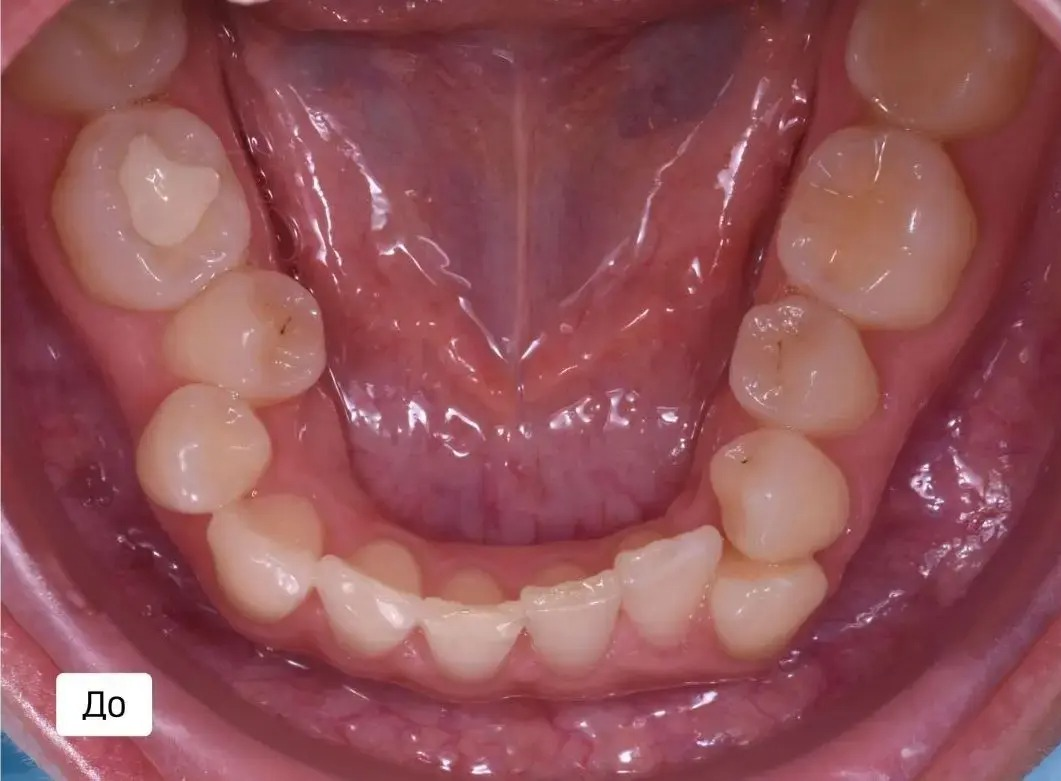LL1BC_decay: (712, 430, 851, 558)
LL1M_healthy: (787, 131, 975, 327)
LL2BC_decay: (733, 304, 879, 430)
LL2M_healthy: (847, 7, 1024, 126)
LLCI_healthy: (525, 574, 620, 674)
LLC_healthy: (714, 562, 828, 646)
LLLI_healthy: (623, 535, 723, 646)
LR1BC_healthy: (145, 389, 268, 509)
LR1M_healthy: (57, 106, 250, 307)
LR2BC_decay: (190, 275, 326, 396)
LR2M_healthy: (55, 14, 184, 100)
LRCI_healthy: (429, 574, 522, 678)
LRC_healthy: (211, 496, 321, 618)
LRLI_healthy: (320, 543, 422, 654)
